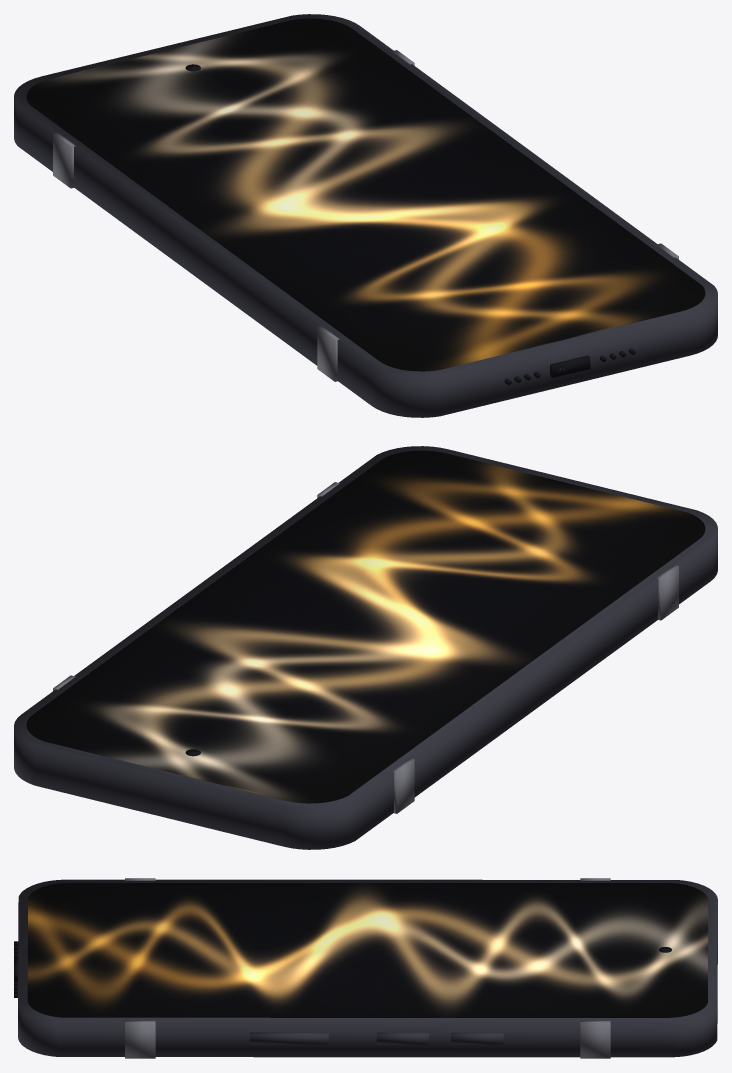
File: vanta_one.glb
The picture shows the model from 3 angles, top to bottom: view 1: azimuth 30°, elevation 25°; view 2: azimuth 150°, elevation 25°; view 3: azimuth 270°, elevation 25°; orthographic projection. The views are drawn at different scales.
Parts seen in each view (by area): view 1: Screen, Body, Antenna-1_False, Antenna-1_True; view 2: Screen, Body, Antenna-1_False, Antenna-1_True; view 3: Screen, Body, Antenna1_False, Antenna1_True, KeyPower, KeyVolDown, KeyVolUp.
Part boxes in pixels (x1,y1,x2,y2): Screen: (26,18,705,371); Body: (14,14,717,417); Antenna-1_False: (317,326,339,381); Antenna-1_True: (53,133,75,188); Screen: (26,450,705,803); Body: (14,446,717,849); Antenna-1_False: (656,565,678,620); Antenna-1_True: (392,758,414,813); Screen: (27,883,708,1017); Body: (18,879,717,1057); Antenna1_False: (125,1020,155,1058); Antenna1_True: (580,1020,610,1058); KeyPower: (250,1032,328,1044); KeyVolDown: (376,1032,429,1044); KeyVolUp: (451,1033,503,1044).
Bounding box in the file's own units: 0.0785 × 0.0121 × 0.1609.
Materials: 11 (2 with a texture image).
